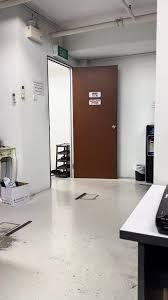exit: (48, 60, 73, 191)
unlit_exit_sign: (57, 44, 67, 61)
